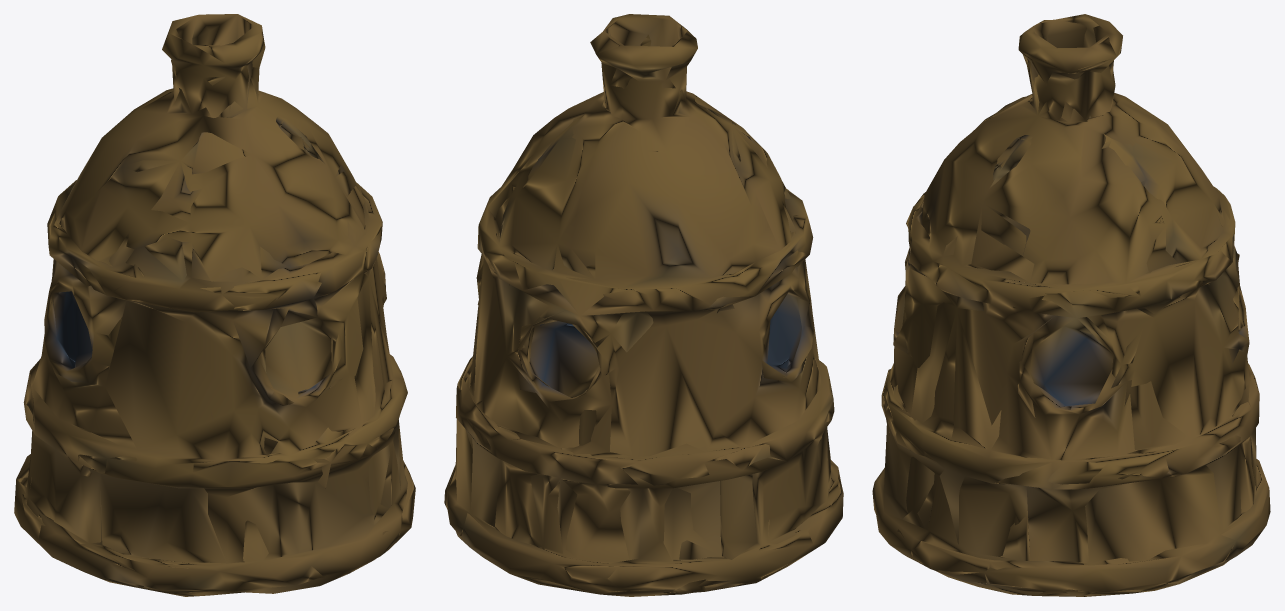
Rendered from gen3d-diving-bell-lod0.glb.
3 views of the same model, side by side, from view 1: azimuth 30°, elevation 25°; view 2: azimuth 150°, elevation 25°; view 3: azimuth 270°, elevation 25° (orthographic).
Parts seen in each view (by area): view 1: part_0; view 2: part_0; view 3: part_0.
Boxes of the visible parts, box(x1,y1,x2,y2) form: part_0: box(14, 14, 415, 596); part_0: box(444, 14, 843, 596); part_0: box(872, 14, 1270, 596).
Bounding box in the file's own units: 0.6858 × 0.9996 × 0.6814.
